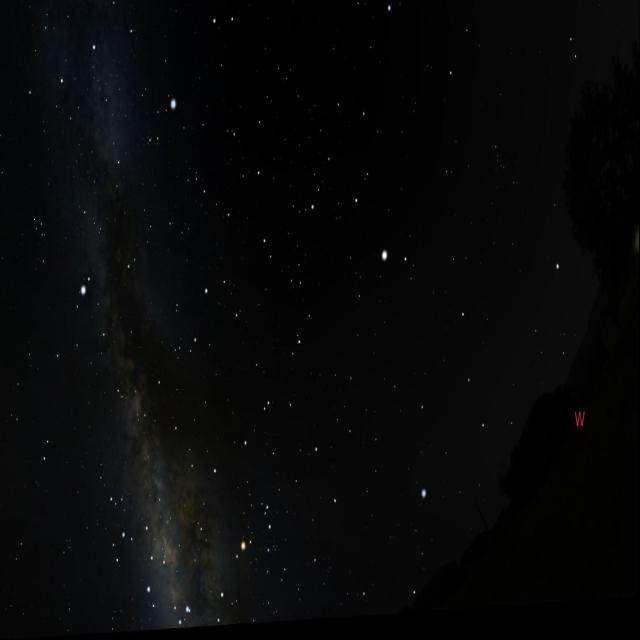aquila: (42, 231, 148, 416)
bootes: (325, 78, 422, 310)
cygnus: (54, 0, 137, 197)
lyra: (144, 97, 182, 156)
sagittarius: (101, 485, 172, 627)
scorpius: (168, 480, 282, 631)
